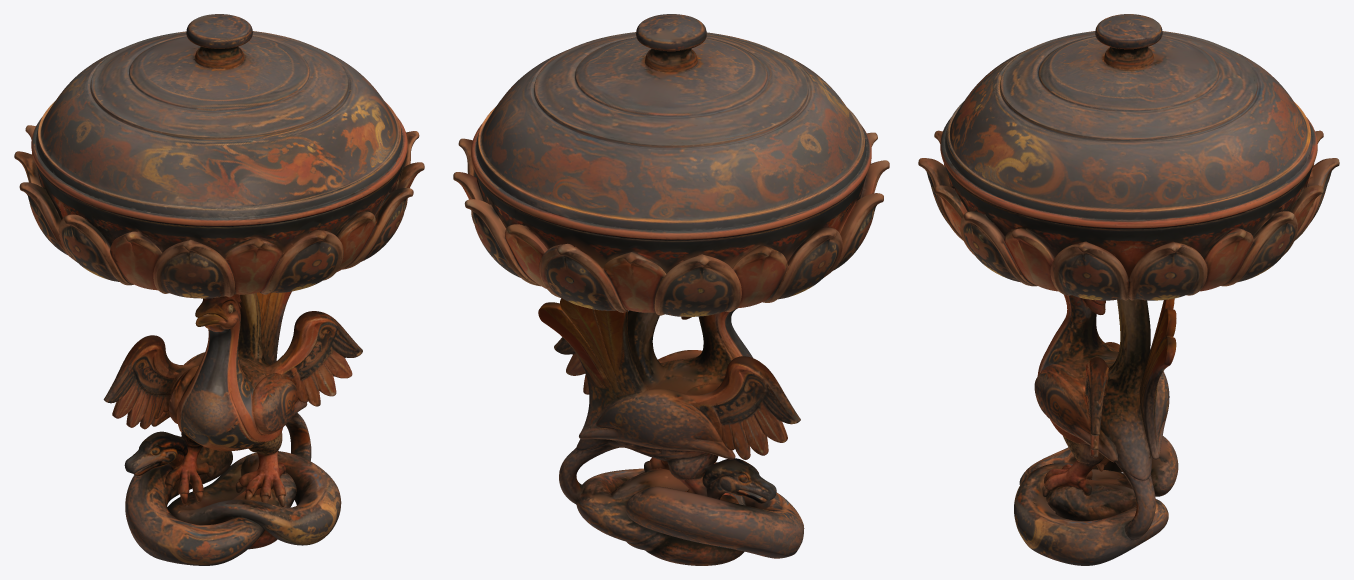
3 views of the same model, side by side, from view 1: azimuth 30°, elevation 25°; view 2: azimuth 150°, elevation 25°; view 3: azimuth 270°, elevation 25° (orthographic). The views are drawn at different scales.
Visible parts, largest first — view 1: node_0; view 2: node_0; view 3: node_0.
Boxes of the visible parts, x1=… form: node_0: x1=14, y1=14, x2=424, y2=565; node_0: x1=453, y1=14, x2=889, y2=565; node_0: x1=918, y1=14, x2=1339, y2=565.
Size of the model in its own units: 0.8318 by 1.12 by 0.8498.
Materials: 1 (1 with a texture image).
